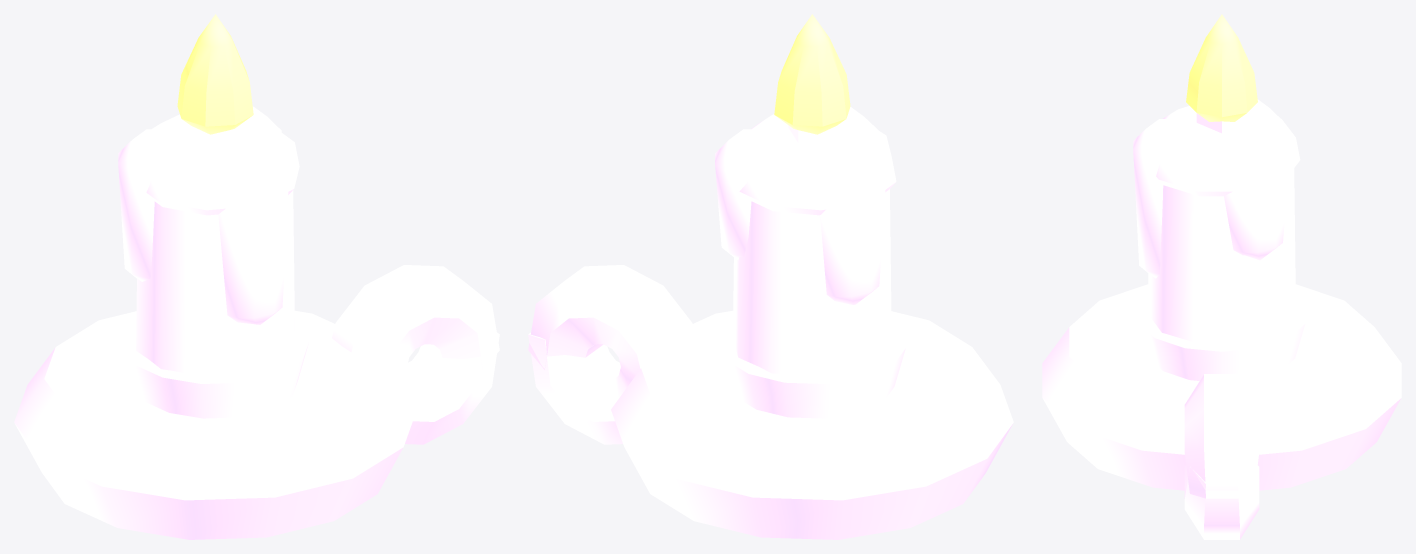
The model's file is candle.gltf.
3 renders of one model, left to right at view 1: azimuth 30°, elevation 25°; view 2: azimuth 150°, elevation 25°; view 3: azimuth 270°, elevation 25°, orthographic. The views are drawn at different scales.
Parts seen in each view (by area): view 1: HAUNT_static, FLAME_candle; view 2: HAUNT_static, FLAME_candle; view 3: HAUNT_static, FLAME_candle.
Part boxes in pixels (left/top/right/bottom): HAUNT_static: left=14, top=106, right=499, bottom=539; FLAME_candle: left=177, top=14, right=253, bottom=134; HAUNT_static: left=528, top=107, right=1013, bottom=539; FLAME_candle: left=774, top=14, right=850, bottom=134; HAUNT_static: left=1042, top=99, right=1401, bottom=539; FLAME_candle: left=1186, top=14, right=1257, bottom=121.
Bounding box in the file's own units: 0.3295 × 0.3298 × 0.2495.
